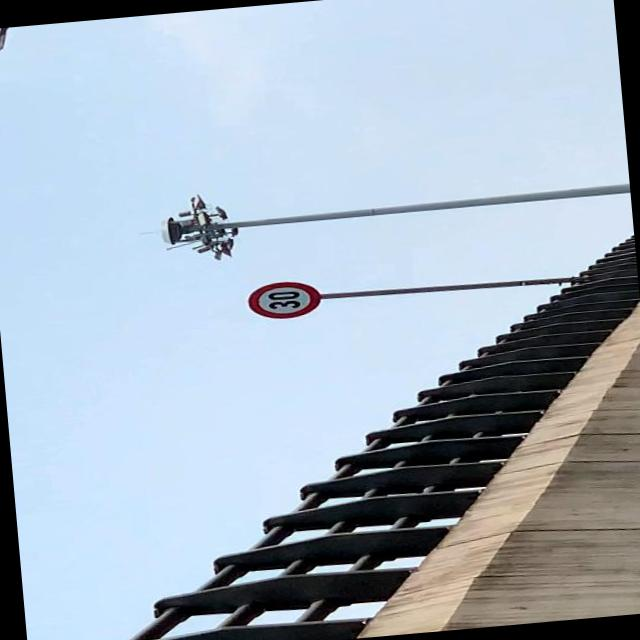P-127: (244, 276, 320, 320)
